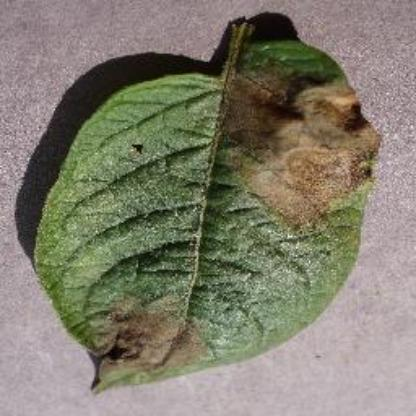Late-Blight: (26, 16, 390, 396)
